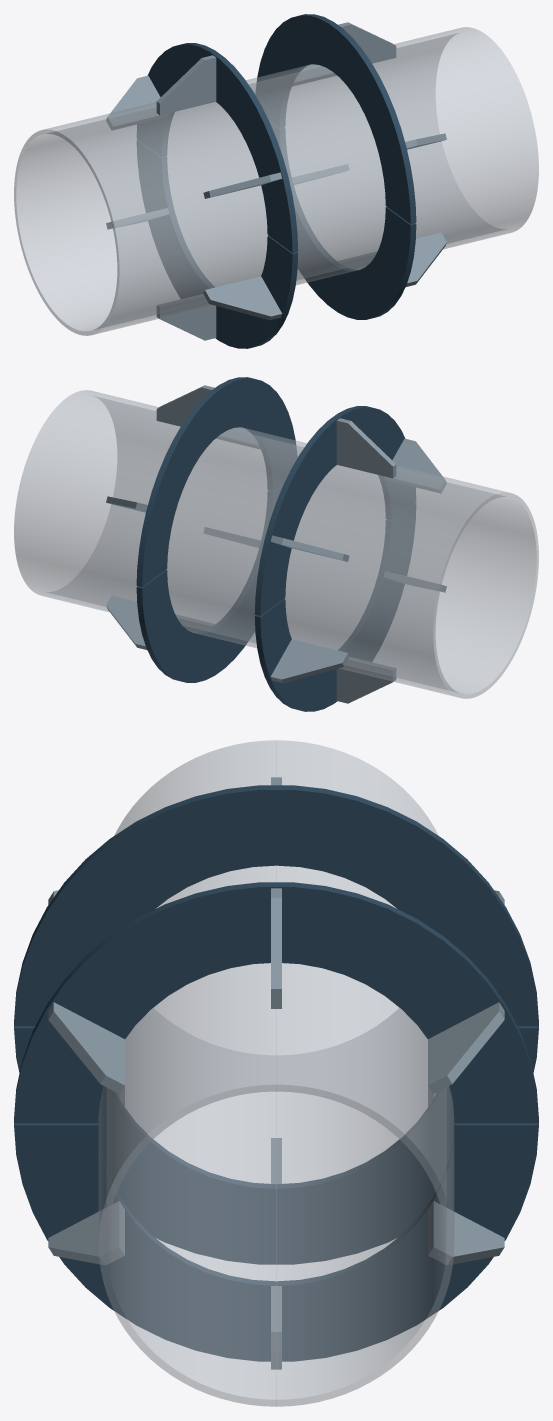
Rendered from TS-666.00.00-05-opora-dn325-D480.glb.
3 renders of one model, top to bottom at view 1: azimuth 30°, elevation 25°; view 2: azimuth 150°, elevation 25°; view 3: azimuth 270°, elevation 25°, orthographic. The views are drawn at different scales.
Visible parts, largest first — view 1: truba, polukoltso_1, polukoltso_5, polukoltso_13, polukoltso_9, rebro_7, rebro_14, rebro_15, rebro_6, rebro_10, rebro_3, rebro_8 (+3 smaller); view 2: truba, polukoltso_1, polukoltso_5, polukoltso_13, polukoltso_9, rebro_7, rebro_16, rebro_15, rebro_8, rebro_12, rebro_3, rebro_6 (+3 smaller); view 3: truba, polukoltso_1, polukoltso_9, polukoltso_5, polukoltso_13, rebro_2, rebro_4, rebro_10, rebro_12, rebro_3, rebro_11.
Boxes of the visible parts, x1,y1,x2,y2 form: truba: (14,27,538,335); polukoltso_1: (255,14,416,223); polukoltso_5: (137,43,298,252); polukoltso_13: (137,140,298,348); polukoltso_9: (270,122,416,319); rebro_7: (156,55,216,115); rebro_14: (203,276,282,320); rebro_15: (156,294,216,340); rebro_6: (106,75,168,129); rebro_10: (406,232,446,286); rebro_3: (338,22,396,63); rebro_8: (203,172,282,198); truba: (14,390,538,698); polukoltso_1: (136,377,297,586); polukoltso_5: (254,406,415,615); polukoltso_13: (254,503,415,711); polukoltso_9: (136,485,282,682); rebro_7: (336,418,396,478); rebro_16: (270,639,349,683); rebro_15: (336,657,396,703); rebro_8: (384,438,446,492); rebro_12: (106,595,146,649); rebro_3: (156,385,214,426); rebro_6: (270,535,349,561); truba: (98,740,454,1406); polukoltso_1: (14,882,538,1123); polukoltso_9: (14,1123,538,1361); polukoltso_5: (14,785,538,1026); polukoltso_13: (14,1026,538,1264); rebro_2: (428,1002,504,1093); rebro_4: (48,1002,124,1093); rebro_10: (48,1201,124,1265); rebro_12: (428,1201,504,1265); rebro_3: (271,888,281,1008); rebro_11: (271,1286,281,1369).
Bounding box in the file's own units: 745 × 479 × 480.
